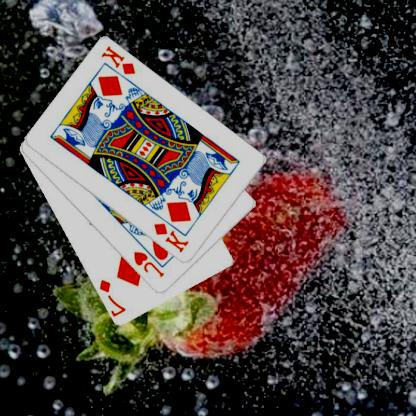7D: (98, 277, 129, 318)
JH: (132, 249, 168, 279)
KD: (152, 221, 192, 254), (100, 43, 139, 76)
